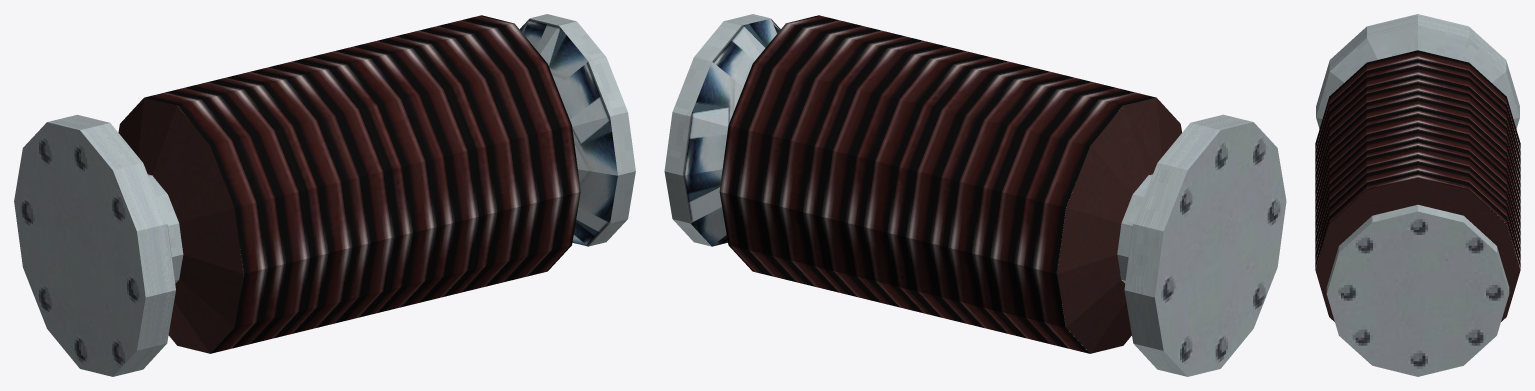
File: jydzz036-geode.glb
3 views of the same model, side by side, from view 1: azimuth 30°, elevation 25°; view 2: azimuth 150°, elevation 25°; view 3: azimuth 270°, elevation 25° (orthographic). The views are drawn at different scales.
Parts seen in each view (by area): view 1: Node; view 2: Node; view 3: Node.
Boxes of the visible parts, left/top/right/bottom form: Node: left=14, top=14, right=635, bottom=376; Node: left=664, top=14, right=1286, bottom=376; Node: left=1315, top=14, right=1520, bottom=376.
Size of the model in its own units: 0.362 by 0.167 by 0.167.
5 materials, 5 textured.
